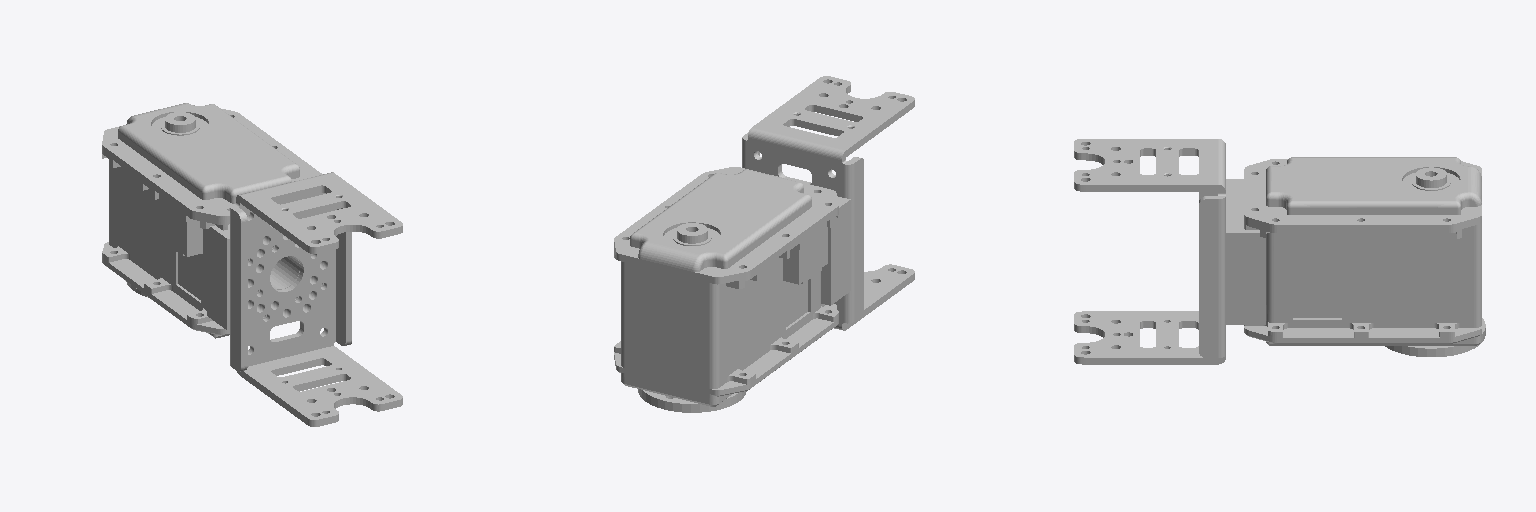
3 views of the same model, side by side, from view 1: azimuth 30°, elevation 25°; view 2: azimuth 150°, elevation 25°; view 3: azimuth 270°, elevation 25° (orthographic).
Visible parts, largest first — view 1: Body1; view 2: Body1; view 3: Body1.
Boxes of the visible parts, x1=… form: Body1: x1=102, y1=103, x2=402, y2=426; Body1: x1=614, y1=76, x2=914, y2=412; Body1: x1=1074, y1=139, x2=1485, y2=364.
Bounding box in the file's own units: 0.0402 × 0.0535 × 0.1058.